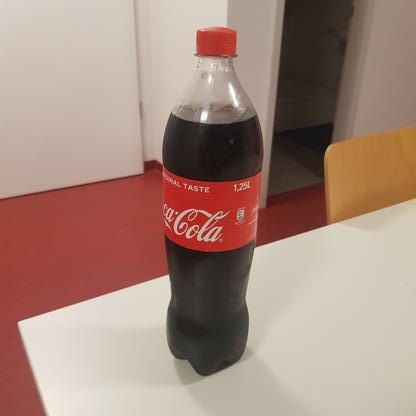coca-cola: (160, 25, 265, 379)
